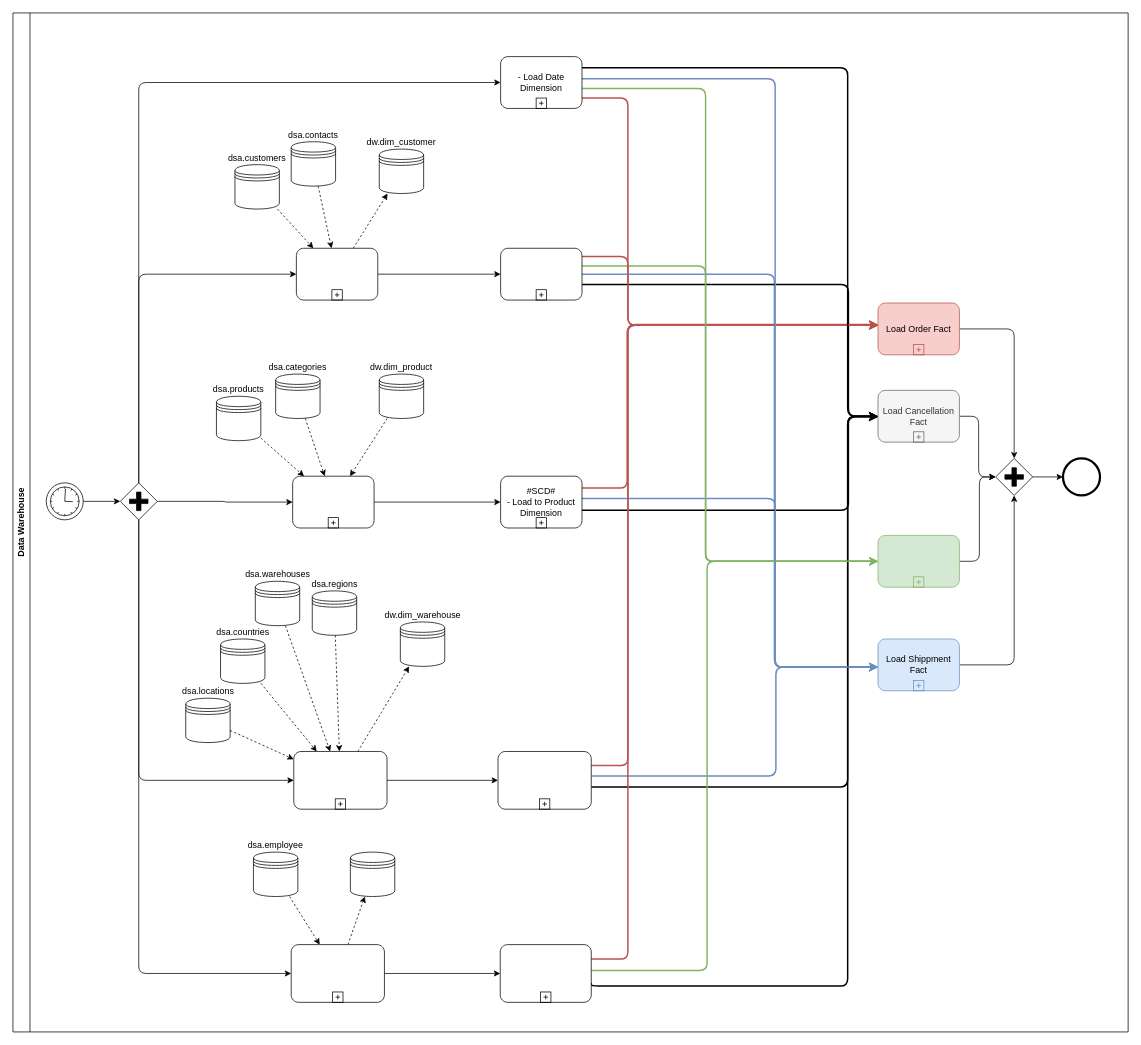
Image size: 1141x1045. Some labels were removed from this diagram. The centre of each missing label's shape, as x and y in pixels:
#DCI# - Customer Dimension: point 337,274
#DCI# - Employee Dimension: point 337,973
#DCI# - Product Dimension: point 333,501
#DCI# - Warehouse Dimension: point 340,780
#SCD# - Load to Warehouse Dimension: point 544,780
#SCD-T1# - Load to Employee Dimension: point 545,973
#SCD-T2# - Load to Customer Dimension: point 541,274
dw.dim_employee: point 372,874
Load Order Payment Fact: point 918,561
